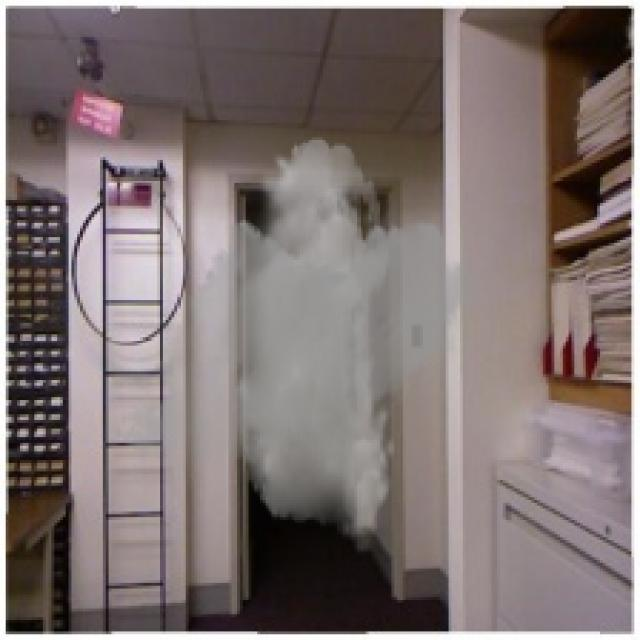smoke: (112, 137, 494, 540)
